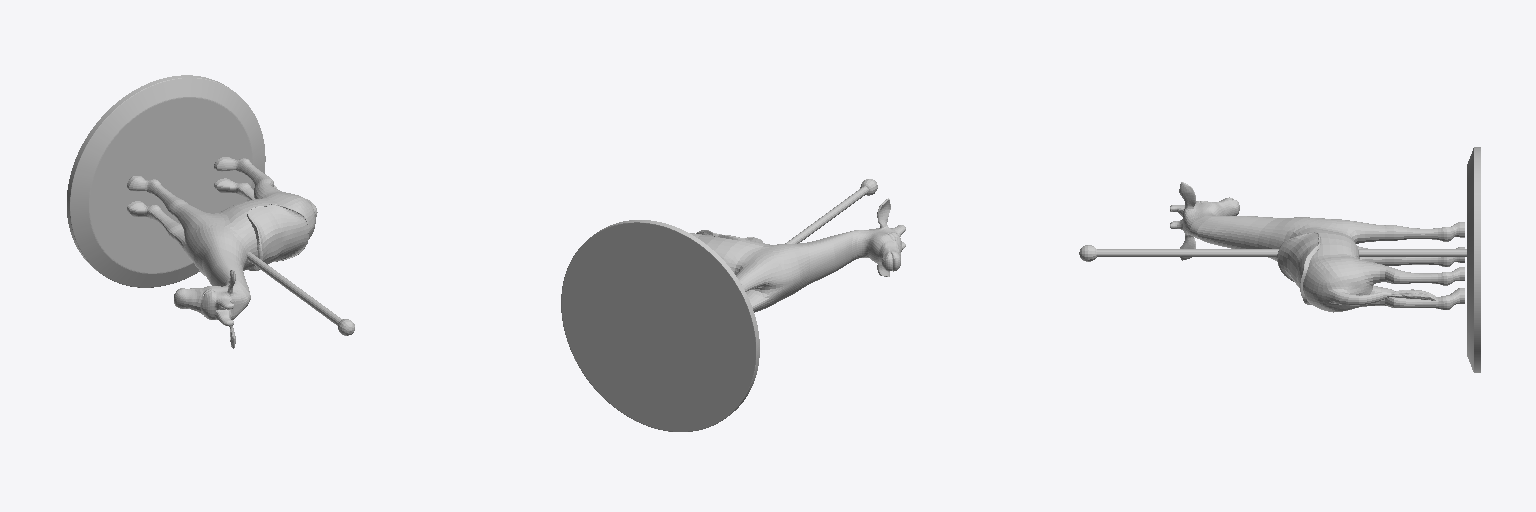
File: 16821_carousel_giraffe_v1_NEW.obj
The picture shows the model from 3 angles: view 1: azimuth 30°, elevation 25°; view 2: azimuth 150°, elevation 25°; view 3: azimuth 270°, elevation 25°; orthographic projection.
Visible parts, largest first — view 1: Plane006; view 2: Plane006; view 3: Plane006.
Boxes of the visible parts, <box> form: Plane006: <box>67,75,354,348</box>; Plane006: <box>561,179,905,431</box>; Plane006: <box>1079,147,1480,372</box>.
Bounding box in the file's own units: 169 × 155 × 277.